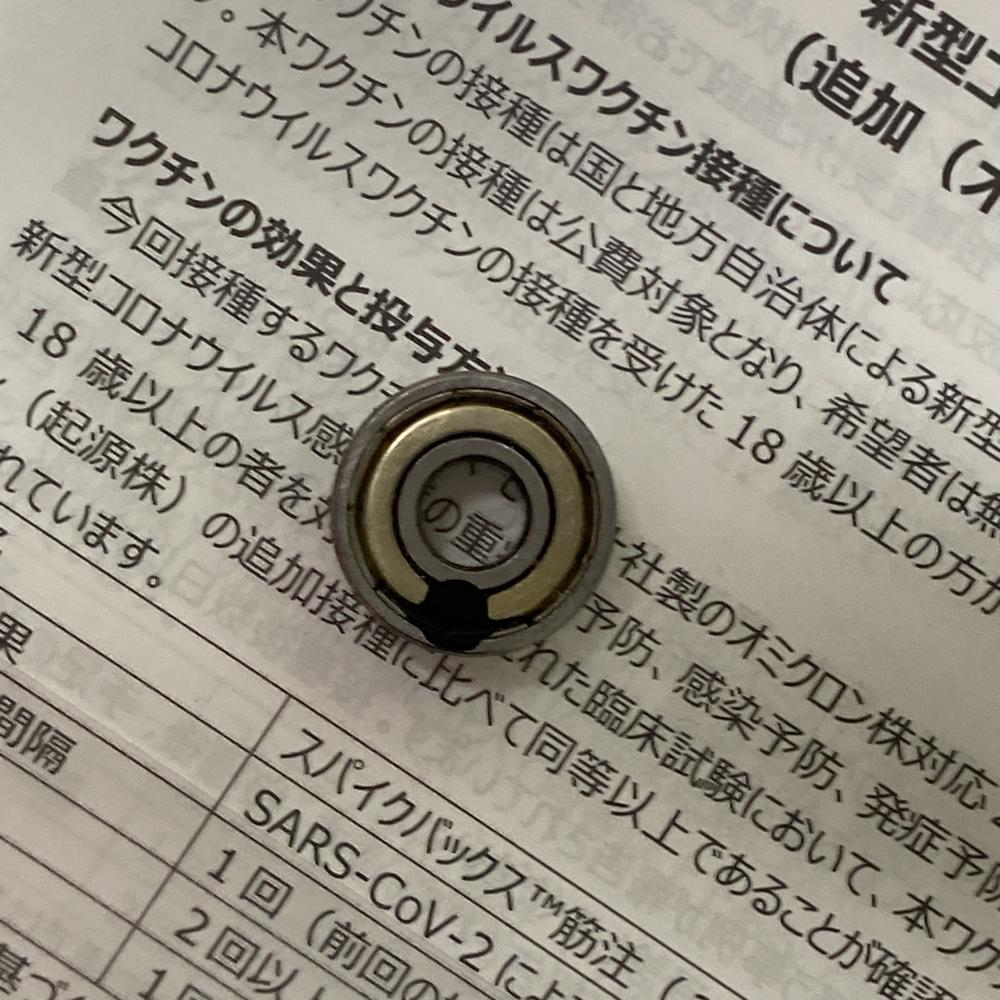ball_bearing_oil_stain: (326, 366, 620, 661)
